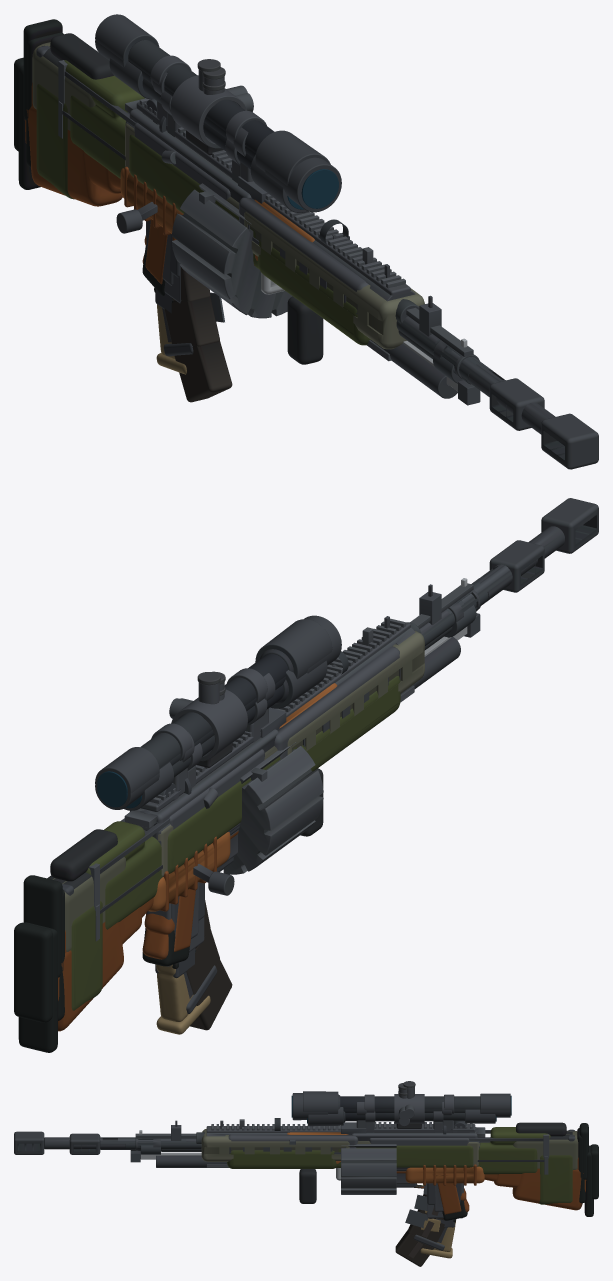
Rendered from guns-_uzUUAMt.glb.
3 views of the same model, one above another, from view 1: azimuth 30°, elevation 25°; view 2: azimuth 150°, elevation 25°; view 3: azimuth 270°, elevation 25° (orthographic). The views are drawn at different scales.
Visible parts, largest first — view 1: awm__body, m21__body, striker__body, m4__body, pump__body, ak__mag, sks__body, ak__body, mac10__body, pump__moving, m1911__body, mp5__mag (+2 smaller); view 2: m21__body, awm__body, m4__body, striker__body, pump__body, ak__body, sks__body, ak__mag, pump__moving, mac10__body, m4__mag, m1911__body (+1 smaller); view 3: awm__body, m21__body, m4__body, striker__body, sks__body, pump__body, ak__body, pump__moving, ak__mag, mac10__body, mp5__mag, m4__mag (+3 smaller).
Part boxes in pixels (bbox=[...]): awm__body: bbox=[26, 39, 598, 469]; m21__body: bbox=[23, 14, 544, 430]; striker__body: bbox=[58, 60, 419, 364]; m4__body: bbox=[27, 32, 479, 379]; pump__body: bbox=[18, 100, 480, 398]; ak__mag: bbox=[164, 267, 232, 402]; sks__body: bbox=[19, 58, 480, 405]; ak__body: bbox=[14, 57, 463, 383]; mac10__body: bbox=[58, 101, 230, 285]; pump__moving: bbox=[120, 166, 183, 240]; m1911__body: bbox=[145, 220, 167, 284]; mp5__mag: bbox=[162, 292, 224, 356]; m21__body: bbox=[23, 540, 544, 977]; awm__body: bbox=[58, 498, 598, 1020]; m4__body: bbox=[47, 590, 480, 971]; striker__body: bbox=[89, 616, 421, 910]; pump__body: bbox=[18, 578, 488, 1052]; ak__body: bbox=[14, 584, 476, 1022]; sks__body: bbox=[23, 606, 480, 1011]; ak__mag: bbox=[186, 900, 232, 1030]; pump__moving: bbox=[148, 832, 230, 911]; mac10__body: bbox=[95, 749, 264, 941]; m4__mag: bbox=[156, 964, 210, 1034]; m1911__body: bbox=[174, 889, 195, 951]; awm__body: bbox=[14, 1083, 585, 1204]; m21__body: bbox=[69, 1081, 588, 1188]; m4__body: bbox=[135, 1094, 582, 1187]; striker__body: bbox=[196, 1120, 549, 1203]; sks__body: bbox=[130, 1091, 591, 1200]; pump__body: bbox=[125, 1125, 593, 1216]; ak__body: bbox=[140, 1120, 598, 1199]; pump__moving: bbox=[405, 1164, 484, 1185]; ak__mag: bbox=[395, 1194, 444, 1266]; mac10__body: bbox=[369, 1130, 548, 1211]; mp5__mag: bbox=[405, 1183, 447, 1250]; m4__mag: bbox=[420, 1210, 456, 1258].
Size of the model in its own units: 0.1248 by 0.3945 by 1.15.
